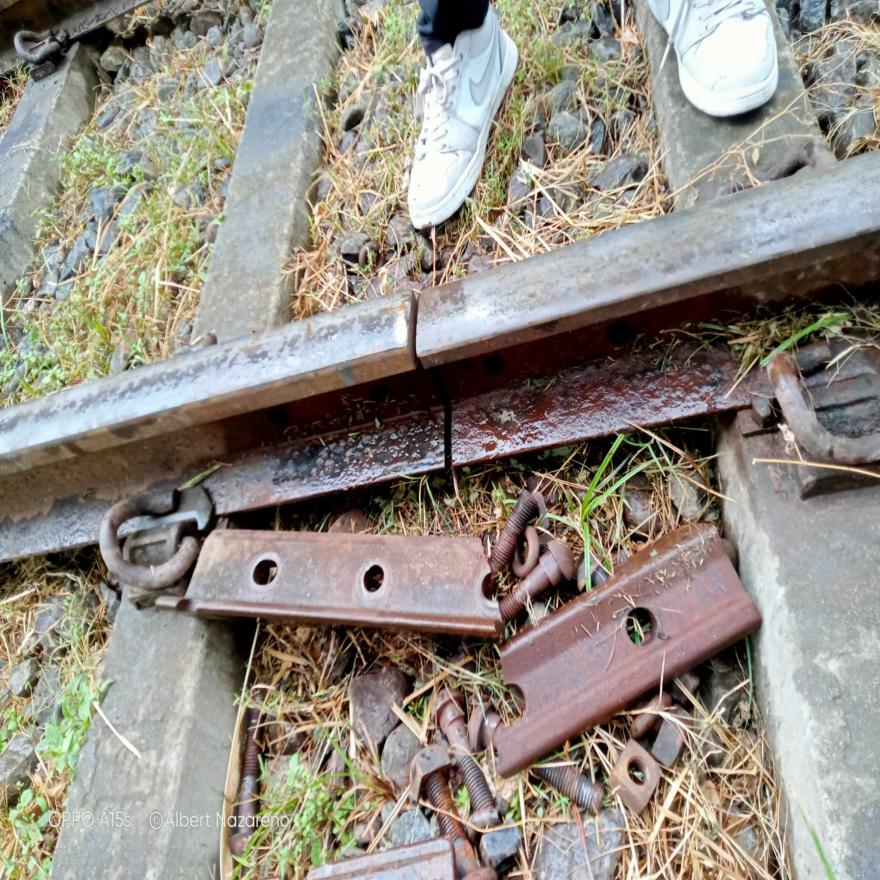railway-gap: (343, 269, 515, 488)
